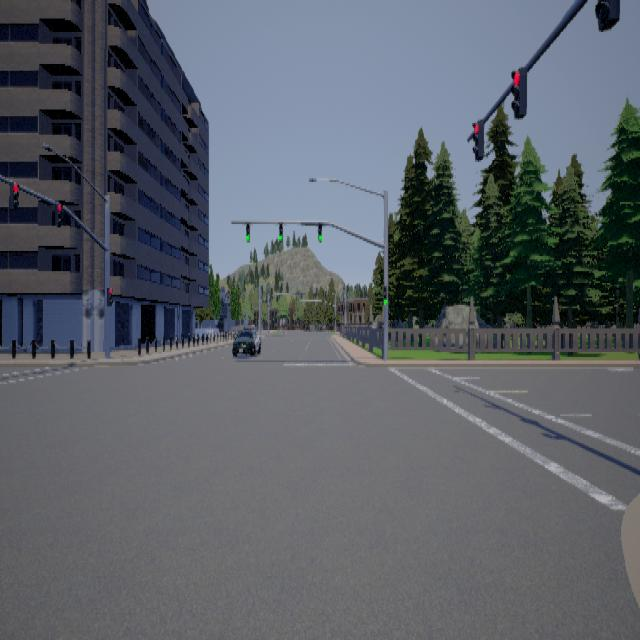green_light: (318, 220, 322, 240), (278, 221, 282, 241), (246, 222, 250, 242), (383, 286, 387, 304)
red_light: (510, 66, 526, 118), (471, 118, 483, 160), (8, 180, 19, 209), (54, 202, 62, 226), (106, 286, 112, 305)
traffic_light: (594, 0, 619, 30)
vehicle: (231, 327, 261, 355)
